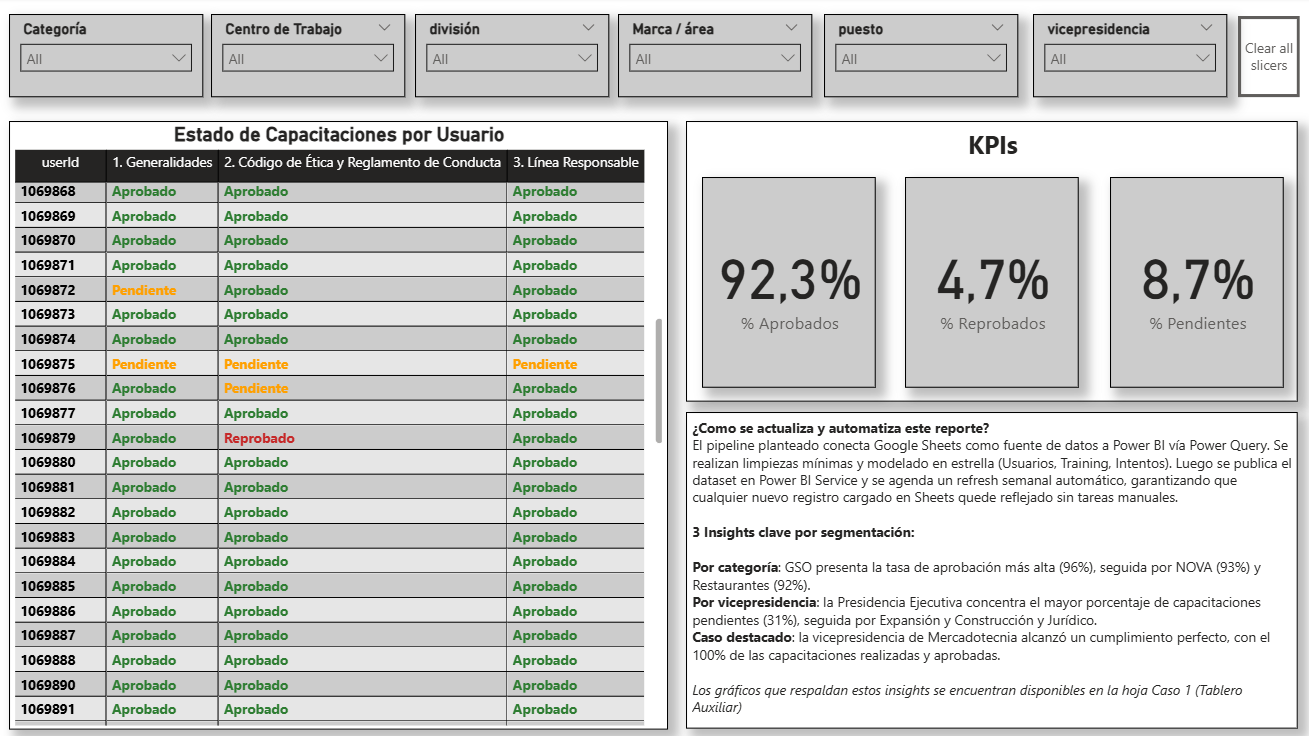

The dashboard page shown, as its layout file describes it:
{"tool":"powerbi","page":{"name":"Caso 1","canvas":[1280,720],"ordinal":0},"visuals":[{"type":"pivotTable","title":"Estado de Capacitaciones por Usuario","fields":{"Rows":["1_Dim_Usuarios.userId"],"Columns":["1_Dim_Training.trainingTitle"],"Values":["1_Medidas.Estado"]},"box":[10.4,120.4,640.5,591.7],"z":0},{"type":"slicer","title":"Estado de Capacitaciones por Usuario","fields":{"Values":["1_Dim_Usuarios.Categoría"]},"box":[10.4,16.6,188.9,81],"z":1000},{"type":"slicer","title":"Estado de Capacitaciones por Usuario","fields":{"Values":["1_Dim_Usuarios.Centro de Trabajo"]},"box":[207.6,16.6,188.9,81],"z":2000},{"type":"slicer","title":"Estado de Capacitaciones por Usuario","fields":{"Values":["1_Dim_Usuarios.división"]},"box":[405.9,16.6,188.9,81],"z":3000},{"type":"slicer","title":"Estado de Capacitaciones por Usuario","fields":{"Values":["1_Dim_Usuarios.Marca / área"]},"box":[603.1,16.6,188.9,81],"z":4000},{"type":"slicer","title":"Estado de Capacitaciones por Usuario","fields":{"Values":["1_Dim_Usuarios.puesto"]},"box":[803.5,16.6,188.9,81],"z":5000},{"type":"slicer","title":"Estado de Capacitaciones por Usuario","fields":{"Values":["1_Dim_Usuarios.vicepresidencia"]},"box":[1007,16.6,188.9,81],"z":6000},{"type":"textbox","box":[669.6,120.4,594.8,273],"z":7000},{"type":"actionButton","box":[1206.3,18.7,60.2,78.9],"z":8000},{"type":"card","title":"Estado de Capacitaciones por Usuario","fields":{"Values":["1_Medidas.% Aprobados"]},"box":[685.2,175.4,169.2,204.5],"z":9000},{"type":"card","title":"Estado de Capacitaciones por Usuario","fields":{"Values":["1_Medidas.% Reprobados"]},"box":[882.4,175.4,169.2,204.5],"z":10000},{"type":"card","title":"Estado de Capacitaciones por Usuario","fields":{"Values":["1_Medidas.% Pendientes"]},"box":[1081.7,175.4,169.2,204.5],"z":11000},{"type":"textbox","box":[669.6,403.8,594.8,308.3],"z":12000}]}

Visuals, with their boxes in screenshot pixels (x1, y1, x2, y2), scaled from the page's 1280x720 canvas onto the 1309x736 screenshot:
"Estado de Capacitaciones por Usuario" pivotTable: x1=11, y1=123, x2=666, y2=728
"Estado de Capacitaciones por Usuario" slicer: x1=11, y1=17, x2=204, y2=100
"Estado de Capacitaciones por Usuario" slicer: x1=212, y1=17, x2=405, y2=100
"Estado de Capacitaciones por Usuario" slicer: x1=415, y1=17, x2=608, y2=100
"Estado de Capacitaciones por Usuario" slicer: x1=617, y1=17, x2=810, y2=100
"Estado de Capacitaciones por Usuario" slicer: x1=822, y1=17, x2=1015, y2=100
"Estado de Capacitaciones por Usuario" slicer: x1=1030, y1=17, x2=1223, y2=100
textbox: x1=685, y1=123, x2=1293, y2=402
actionButton: x1=1234, y1=19, x2=1295, y2=100
"Estado de Capacitaciones por Usuario" card: x1=701, y1=179, x2=874, y2=388
"Estado de Capacitaciones por Usuario" card: x1=902, y1=179, x2=1075, y2=388
"Estado de Capacitaciones por Usuario" card: x1=1106, y1=179, x2=1279, y2=388
textbox: x1=685, y1=413, x2=1293, y2=728
